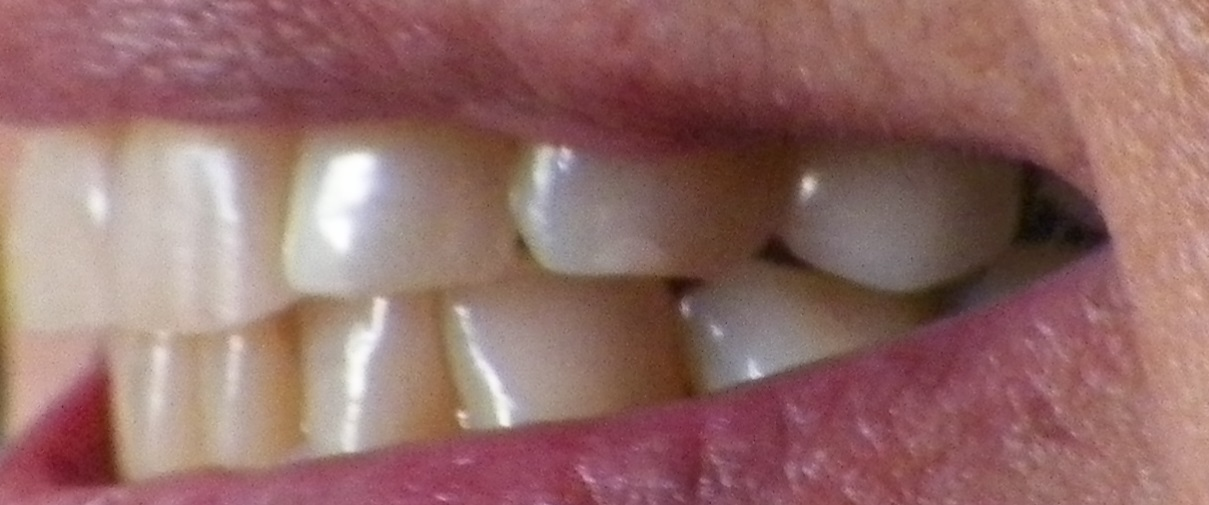boca: (20, 105, 1040, 477)
